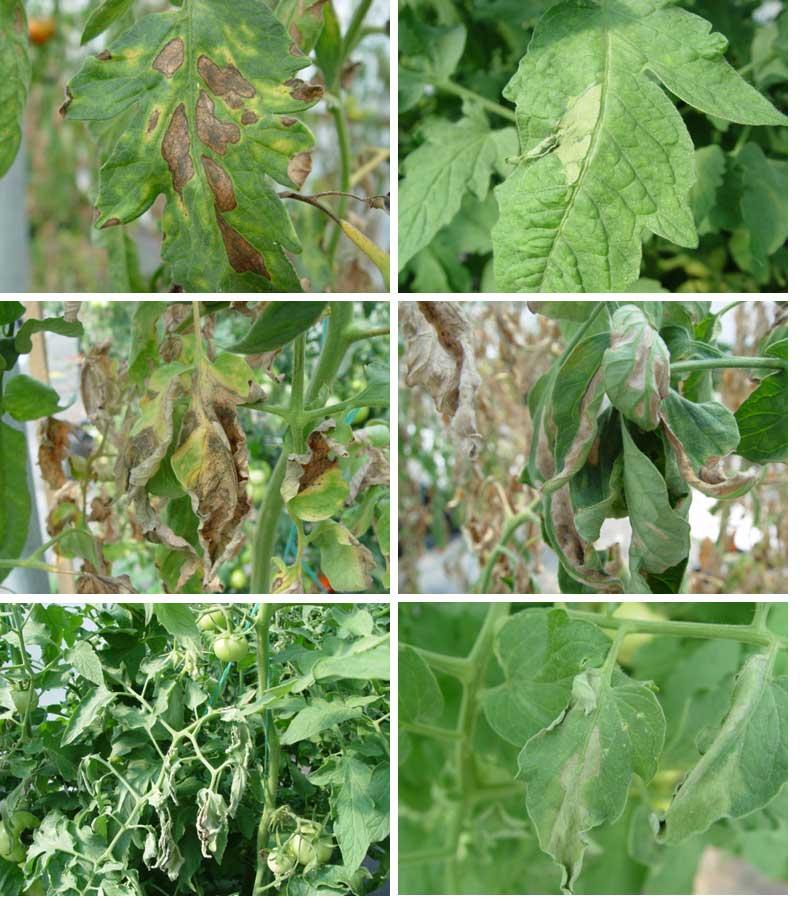Tomato leaf late blight: (76, 6, 320, 282)
